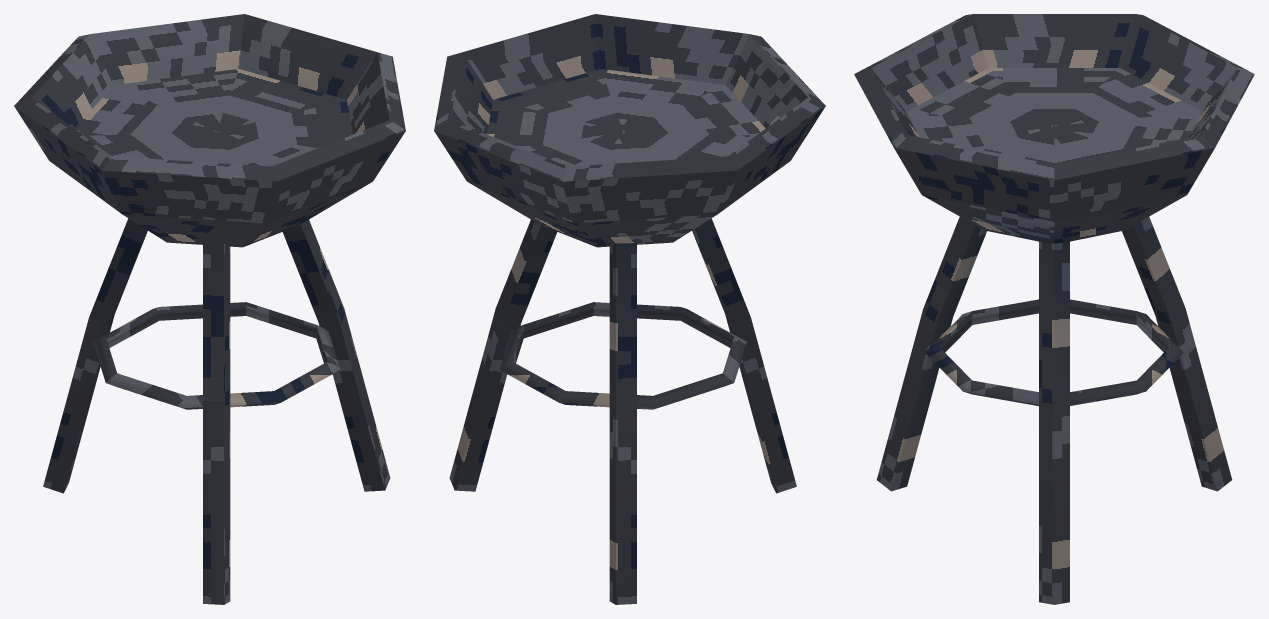
File: dprop.brazier__unlit.glb
The picture shows the model from 3 angles, left to right: view 1: azimuth 30°, elevation 25°; view 2: azimuth 150°, elevation 25°; view 3: azimuth 270°, elevation 25°; orthographic projection.
Visible parts, largest first — view 1: kit_bowl, kit_legs; view 2: kit_bowl, kit_legs; view 3: kit_bowl, kit_legs.
Boxes of the visible parts, x1,y1,x2,y2 form: kit_bowl: (14, 14, 405, 247); kit_legs: (43, 218, 390, 604); kit_bowl: (434, 14, 825, 247); kit_legs: (449, 218, 796, 604); kit_bowl: (854, 14, 1254, 243); kit_legs: (876, 217, 1232, 604).
Size of the model in its own units: 0.8744 by 1.09 by 0.8969.
Materials: 1 (1 with a texture image).
